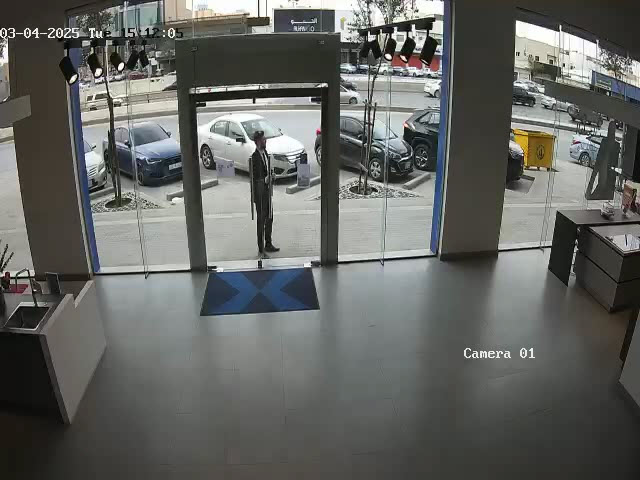employee: (249, 130, 280, 259)
